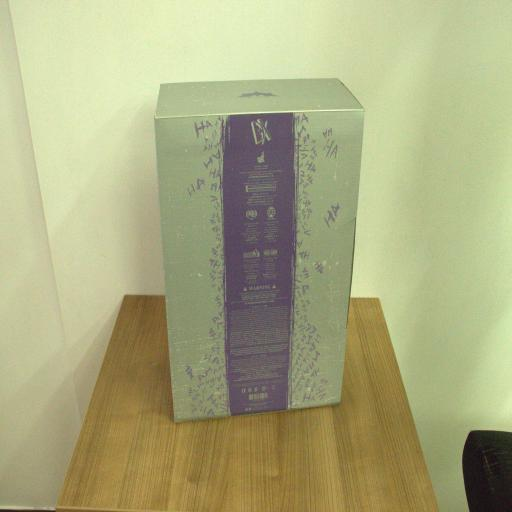Joker: (156, 78, 362, 424)
